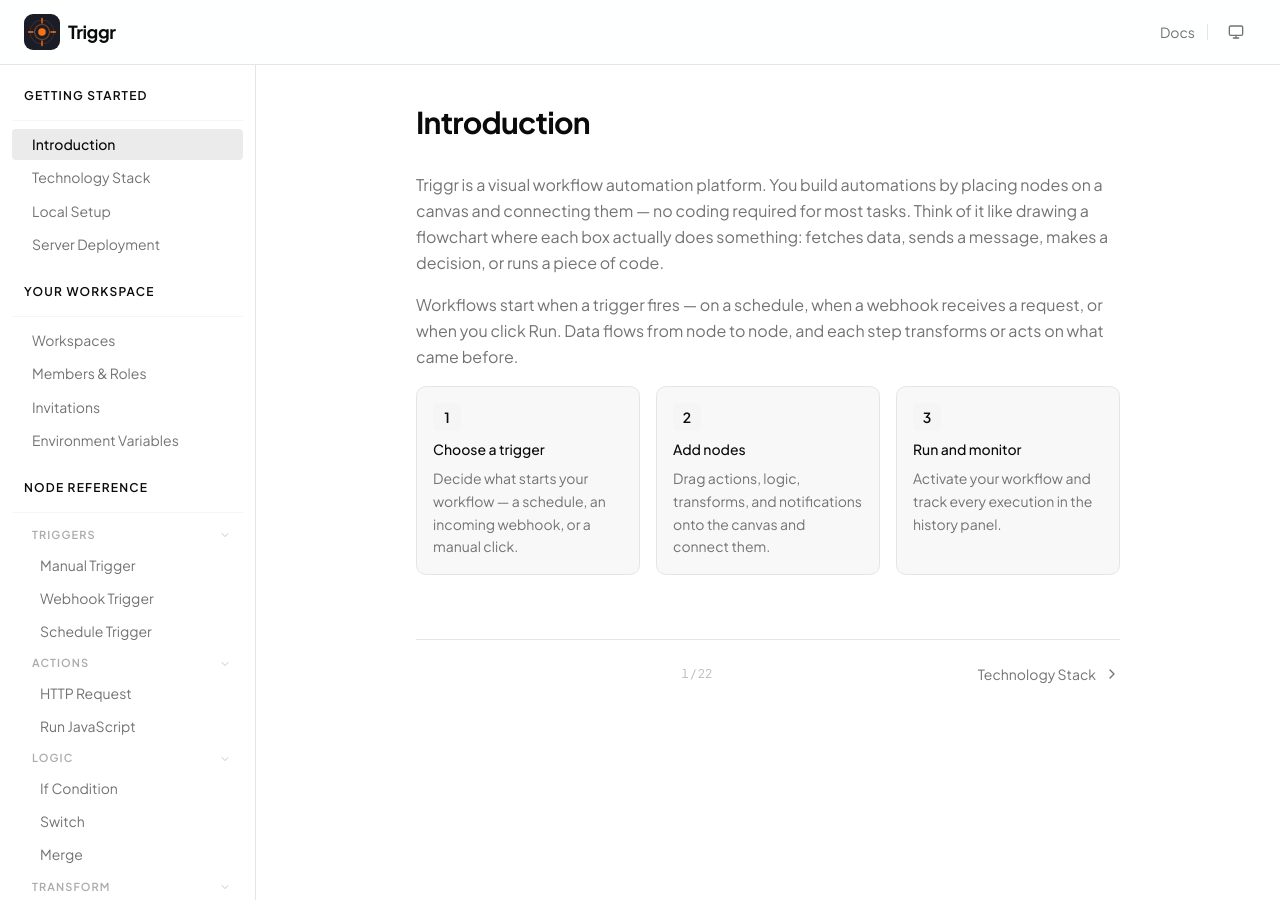
Test: DocsPage › navigates to a page when a sidebar button is clicked
Click the button "Technology Stack" below "Getting Started" at (128, 178), box left=12, top=162, right=243, bottom=194
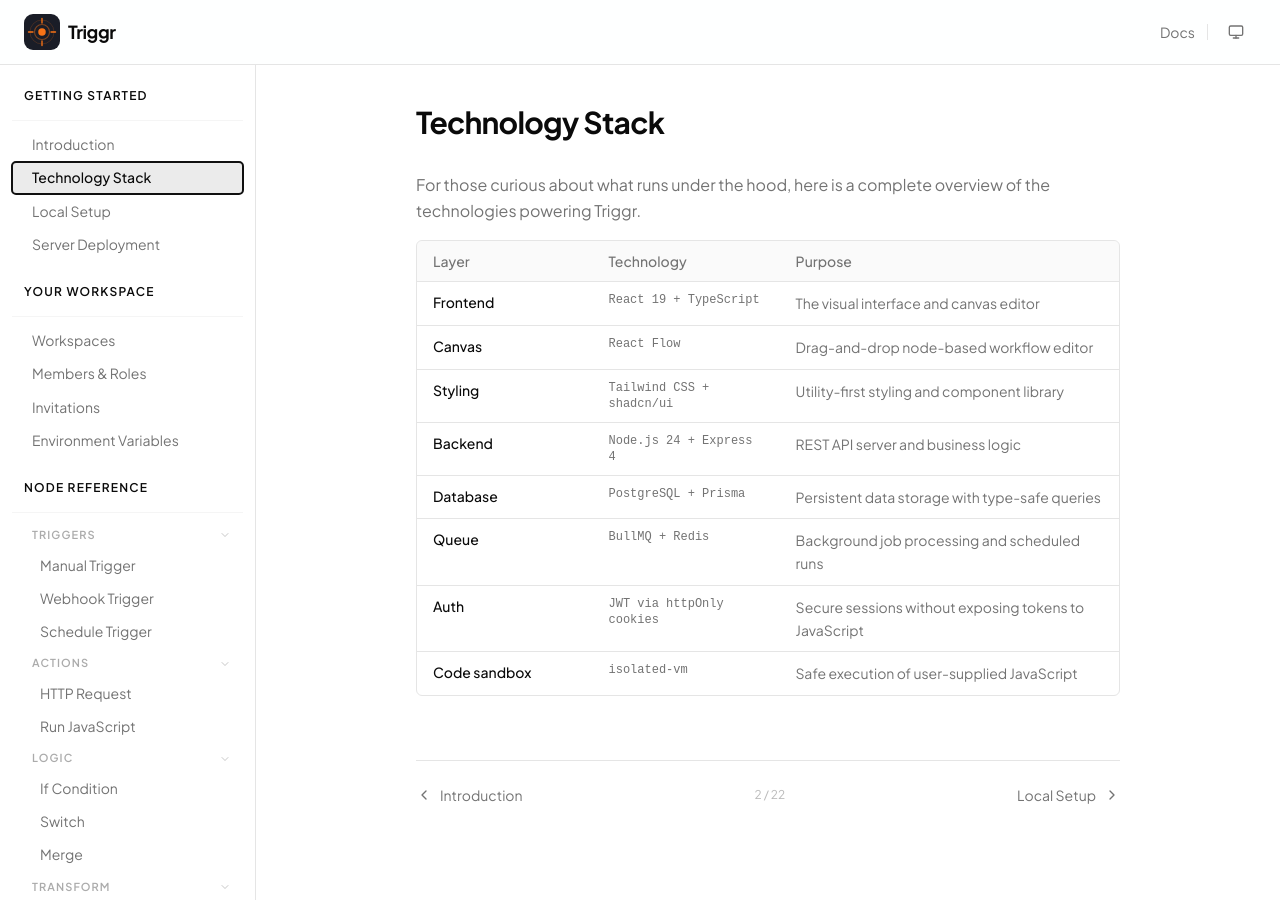
Now the heading "Technology Stack" is shown, box left=416, top=103, right=664, bottom=141
